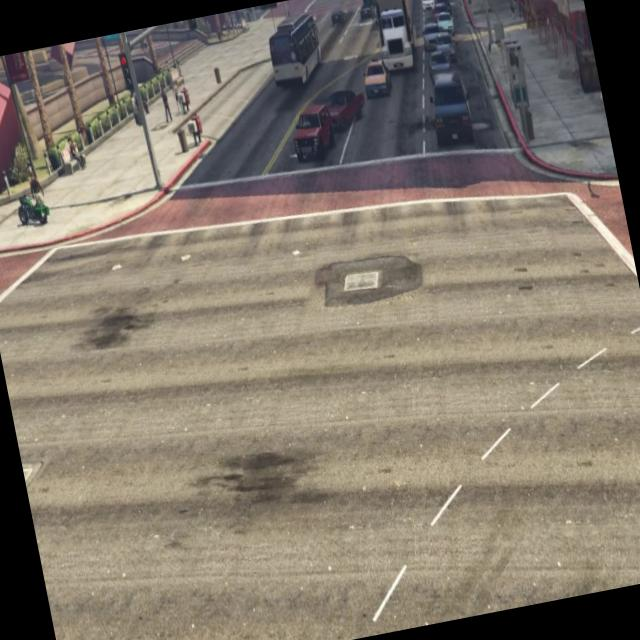Red-Signal: (114, 46, 140, 105), (256, 1, 286, 20), (182, 18, 205, 42)
